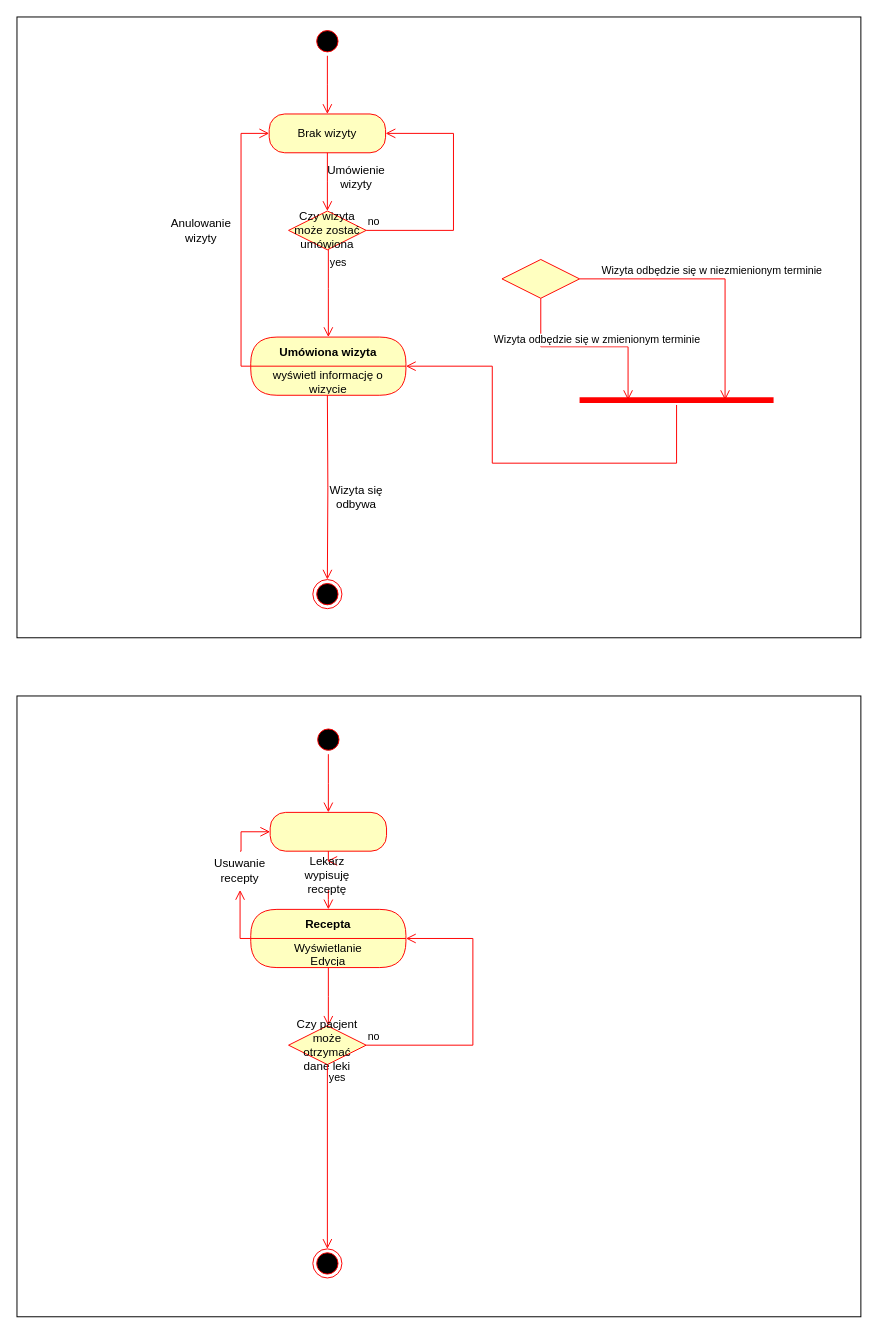
The diagram is 878 pixels wide and 1334 high, and some of its shapes have lost their labels. The shapes that lost their labels are listed below. From the top down, each one's centre as x and y in pixels, then its label:
At point (540, 278): "Czy wizyta może odbyć się w zmienionym terminie".
At point (328, 831): "Brak recepty".
